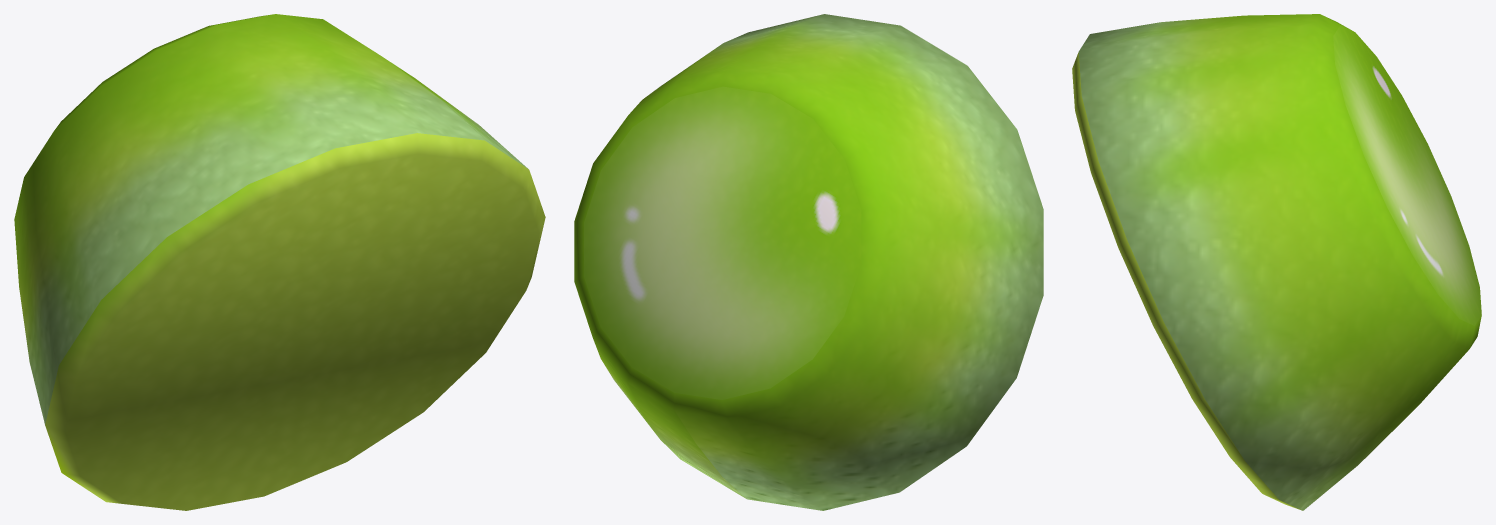
Rendered from seg3touming.fbx.
3 renders of one model, left to right at view 1: azimuth 30°, elevation 25°; view 2: azimuth 150°, elevation 25°; view 3: azimuth 270°, elevation 25°, orthographic. The views are drawn at different scales.
Parts seen in each view (by area): view 1: segtouming3; view 2: segtouming3; view 3: segtouming3.
Part boxes in pixels (left/top/right/bottom): segtouming3: left=14, top=14, right=545, bottom=510; segtouming3: left=574, top=14, right=1043, bottom=510; segtouming3: left=1072, top=14, right=1481, bottom=510.
Bounding box in the file's own units: 9.42 × 8.96 × 7.4.
Materials: 1 (1 with a texture image).
